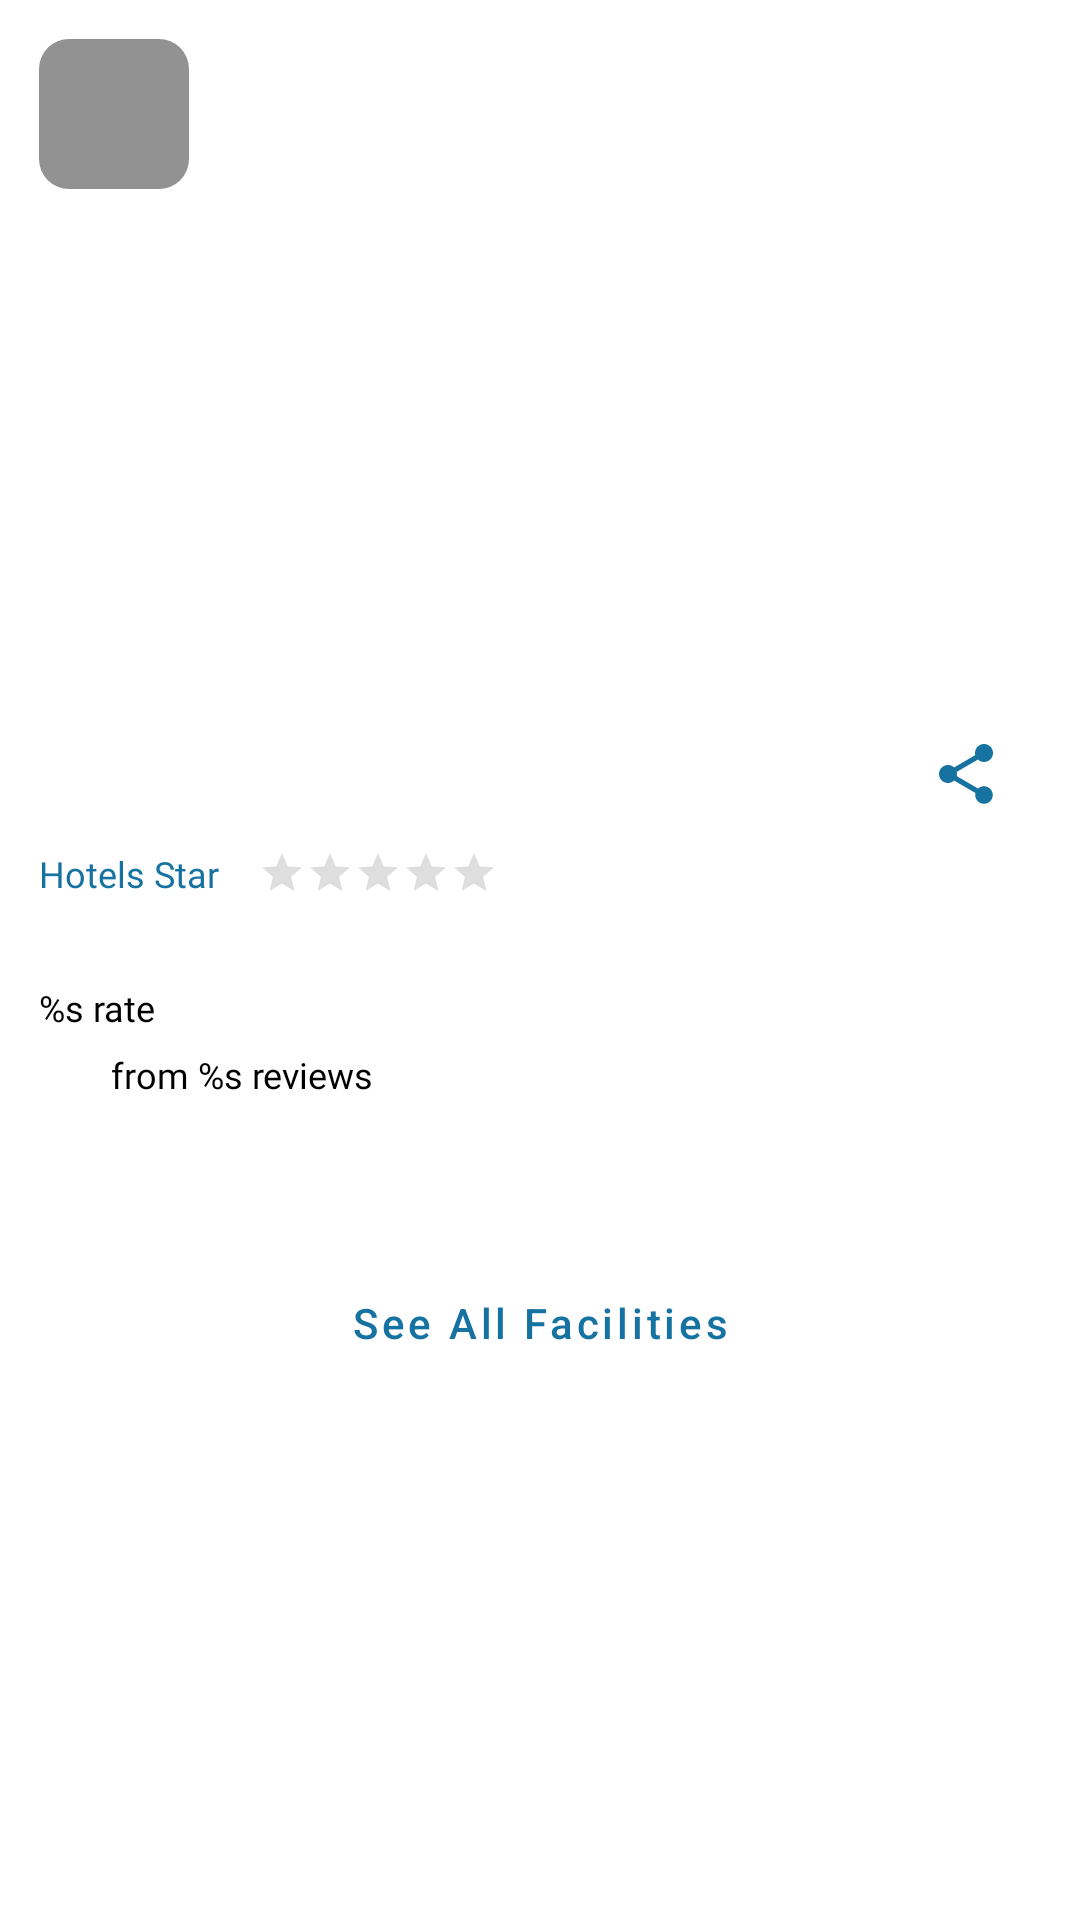

Where to tap for icons on this 1080w x 1920h app screen, as (x=x, y=y):
share: (x=966, y=774)
